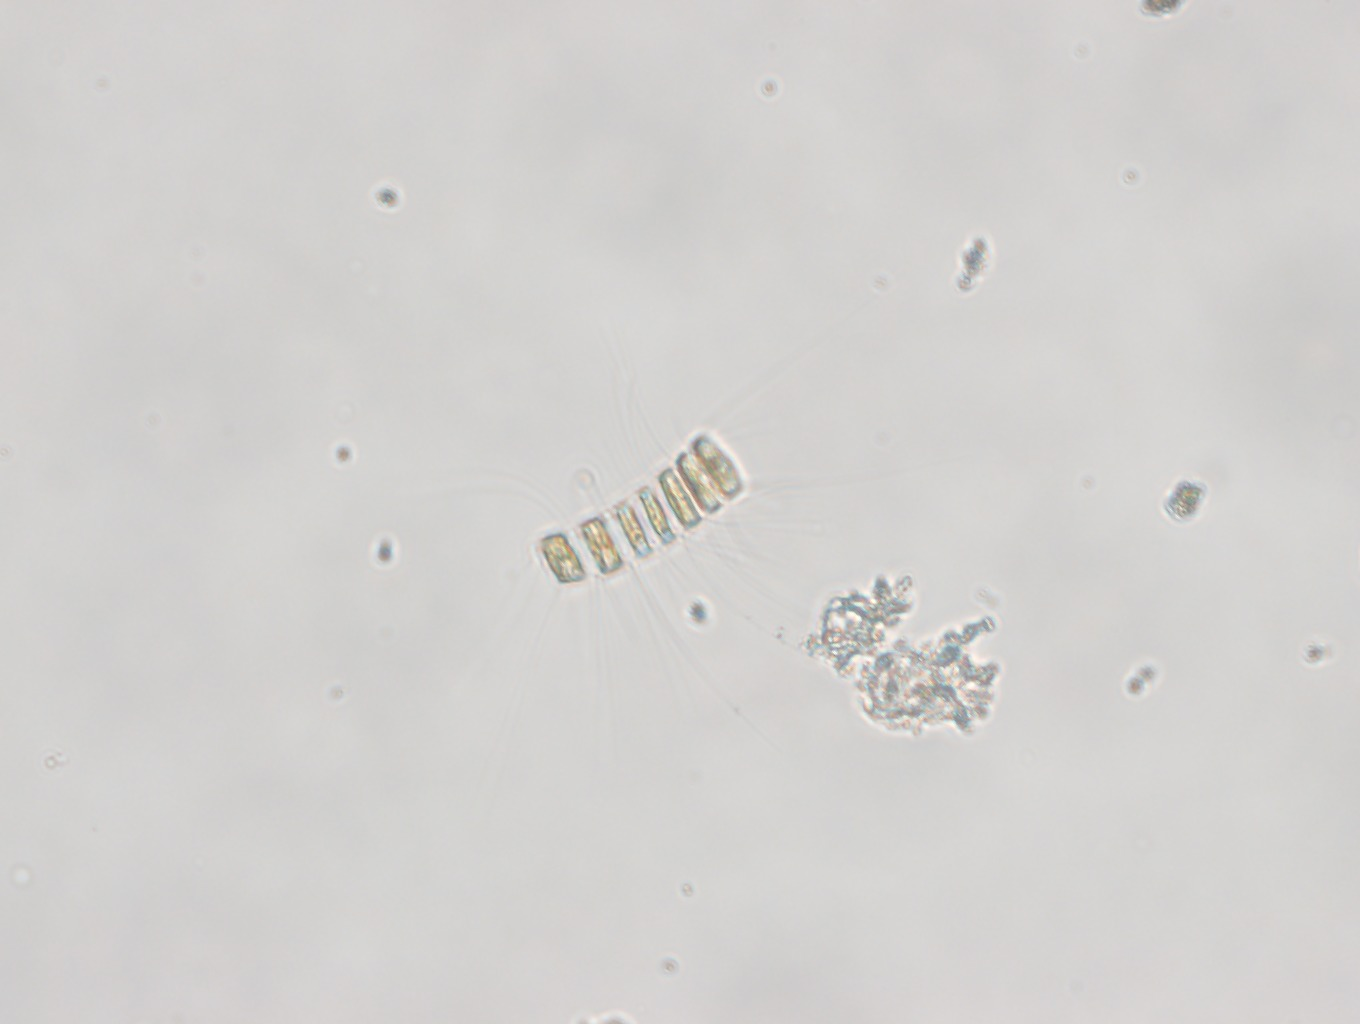chaetoceros: (496, 395, 829, 674)
